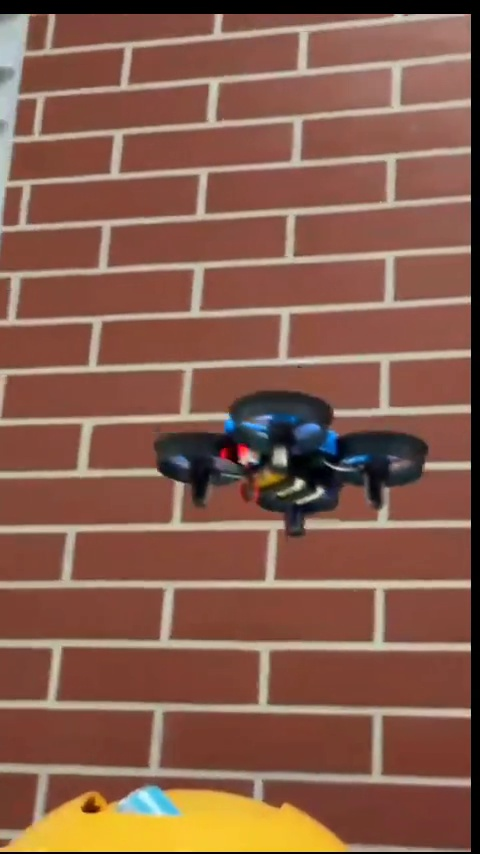drone: (157, 389, 425, 535)
